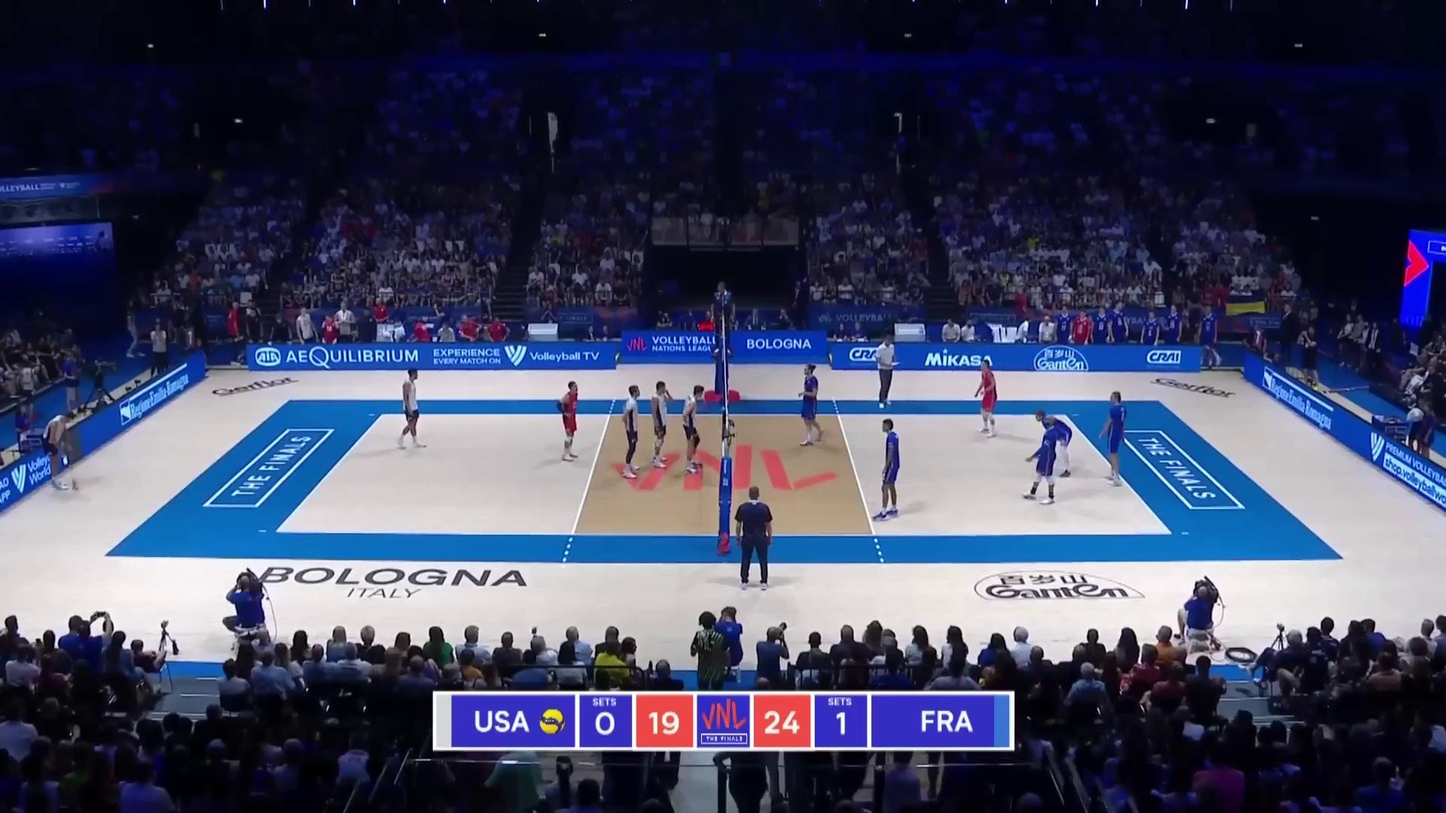player: (40, 410, 78, 494), (1024, 415, 1059, 505), (872, 418, 900, 520), (1099, 390, 1126, 489), (1036, 410, 1072, 478), (397, 368, 425, 450), (799, 364, 826, 445), (681, 385, 705, 474), (973, 358, 1000, 437), (556, 380, 581, 464), (651, 380, 675, 463), (620, 386, 641, 478)
refree: (736, 490, 777, 589), (712, 283, 734, 353)
